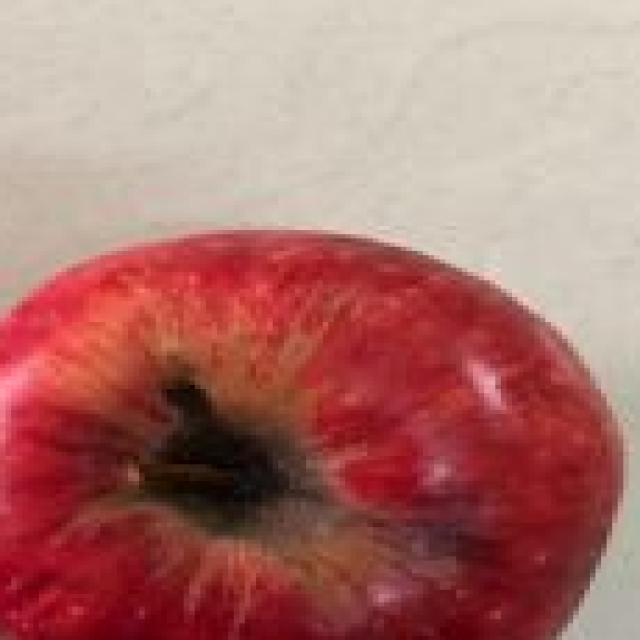Bad_Apple 0-1 day: (0, 232, 621, 640)
